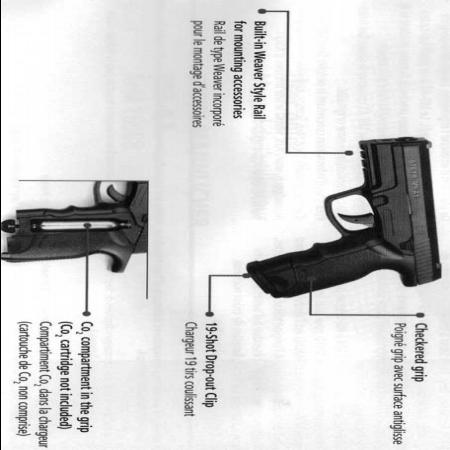Pistol: (246, 136, 444, 298)
